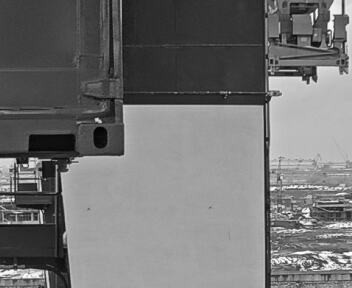twist_lock_1: (47, 154, 80, 177)
